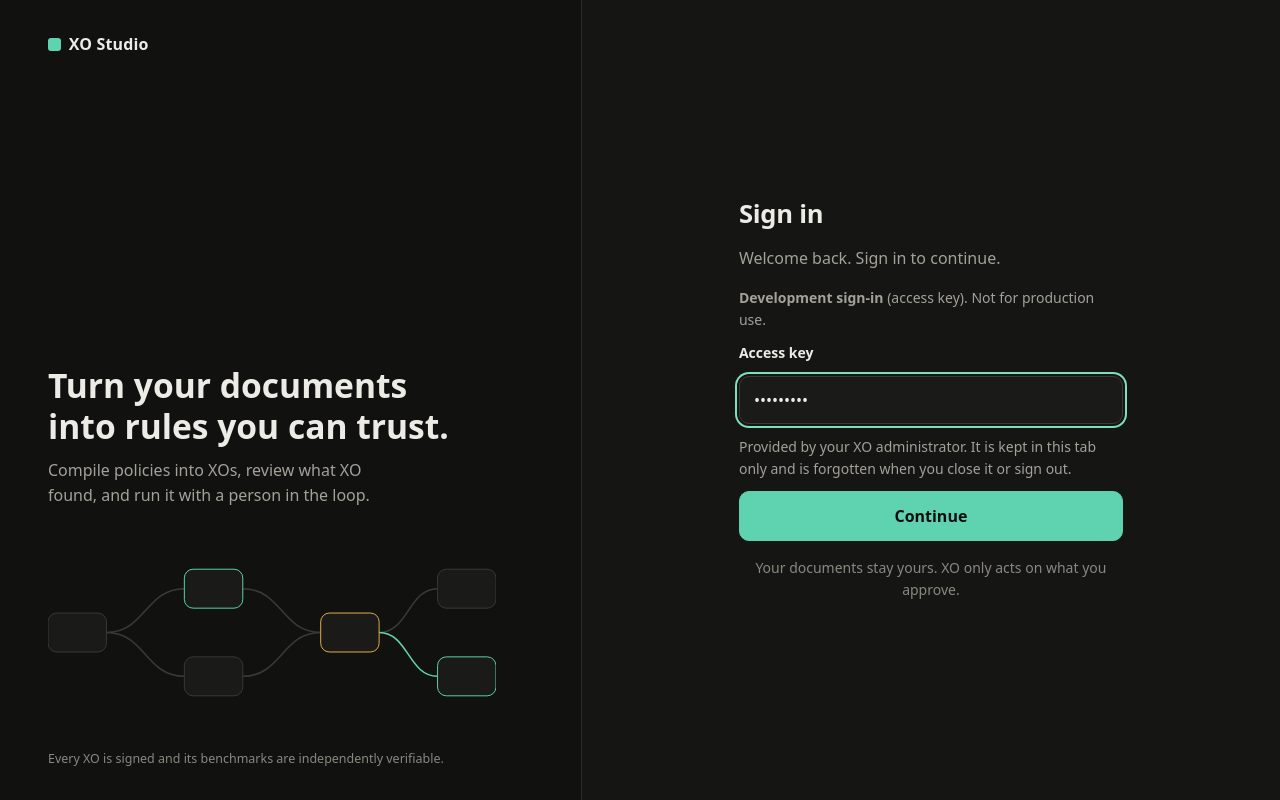
emergency stops › shows the instance stop read-only and the workspace stops with what they hold
Earlier steps of the test are not shown.
Click the button "Continue": {"x": 931, "y": 516} [739,491,1123,541]
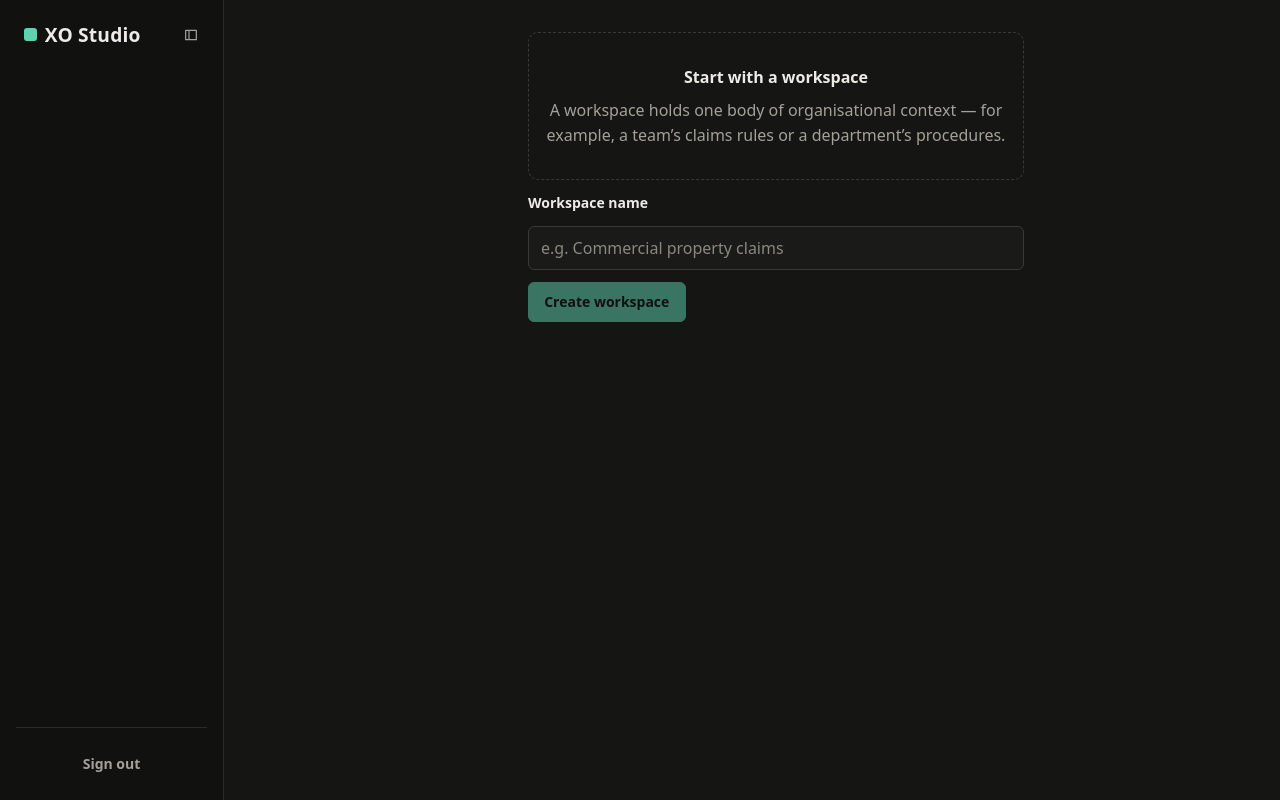
In the field labelled "Workspace name": {"x": 776, "y": 248} [528,226,1024,270], type "Ops"
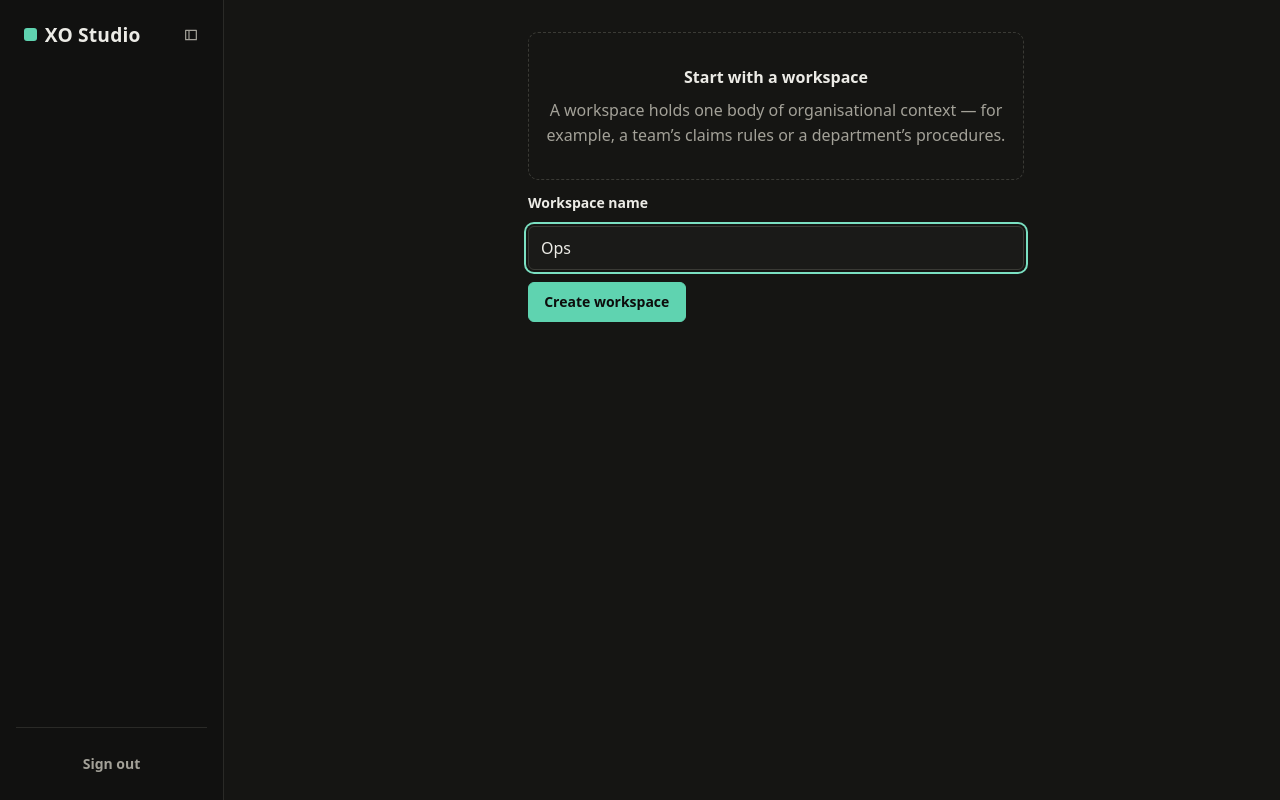
Click the button "Create workspace": {"x": 607, "y": 302} [528,282,686,322]
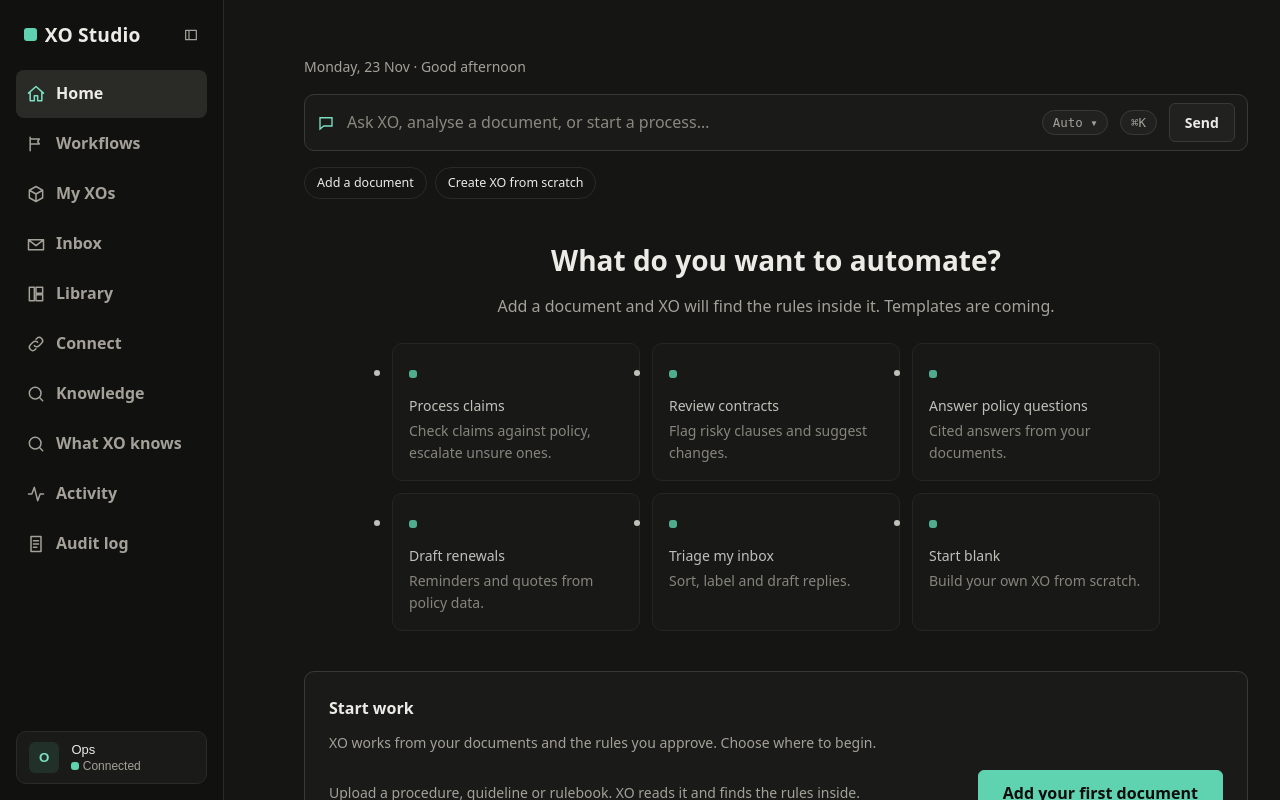
Click the button with aria-label "Workspace menu": {"x": 112, "y": 758} [16,731,207,784]
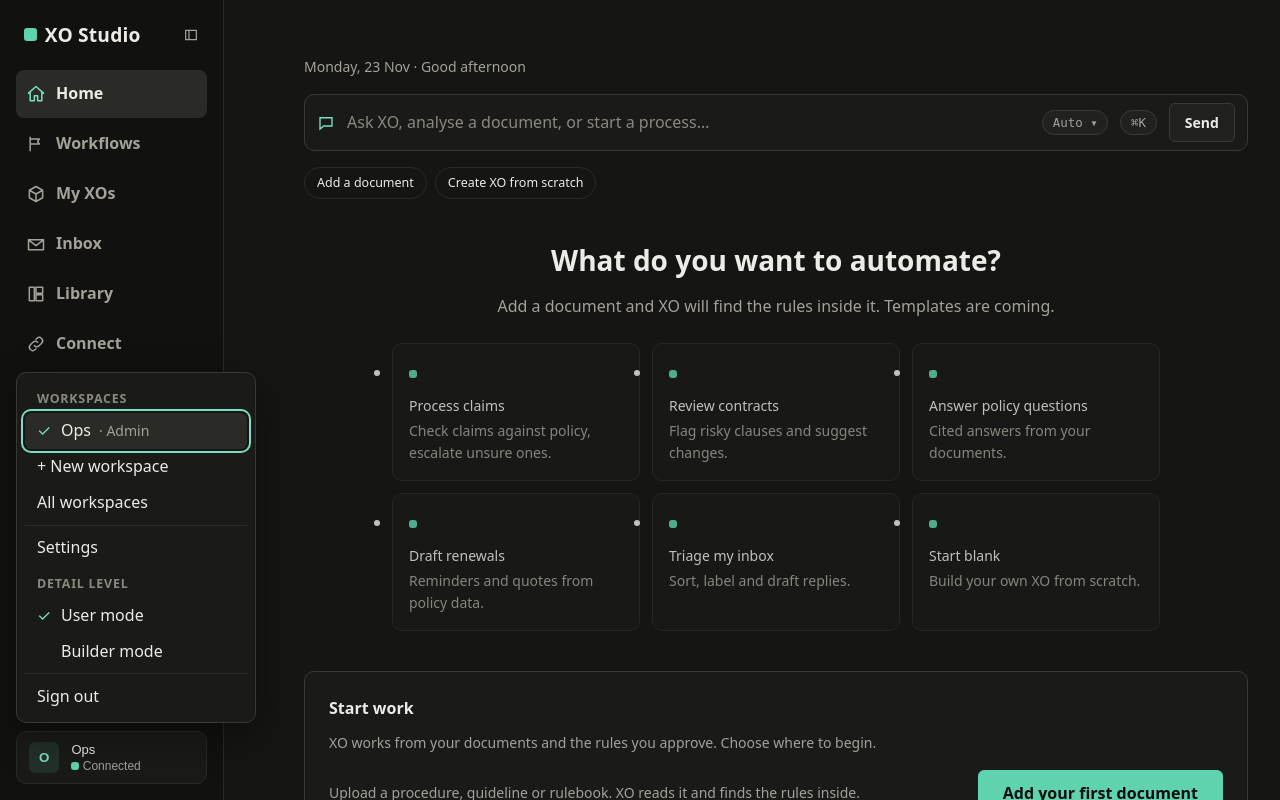
Click the menu item "Settings": {"x": 136, "y": 548} [25,530,247,566]
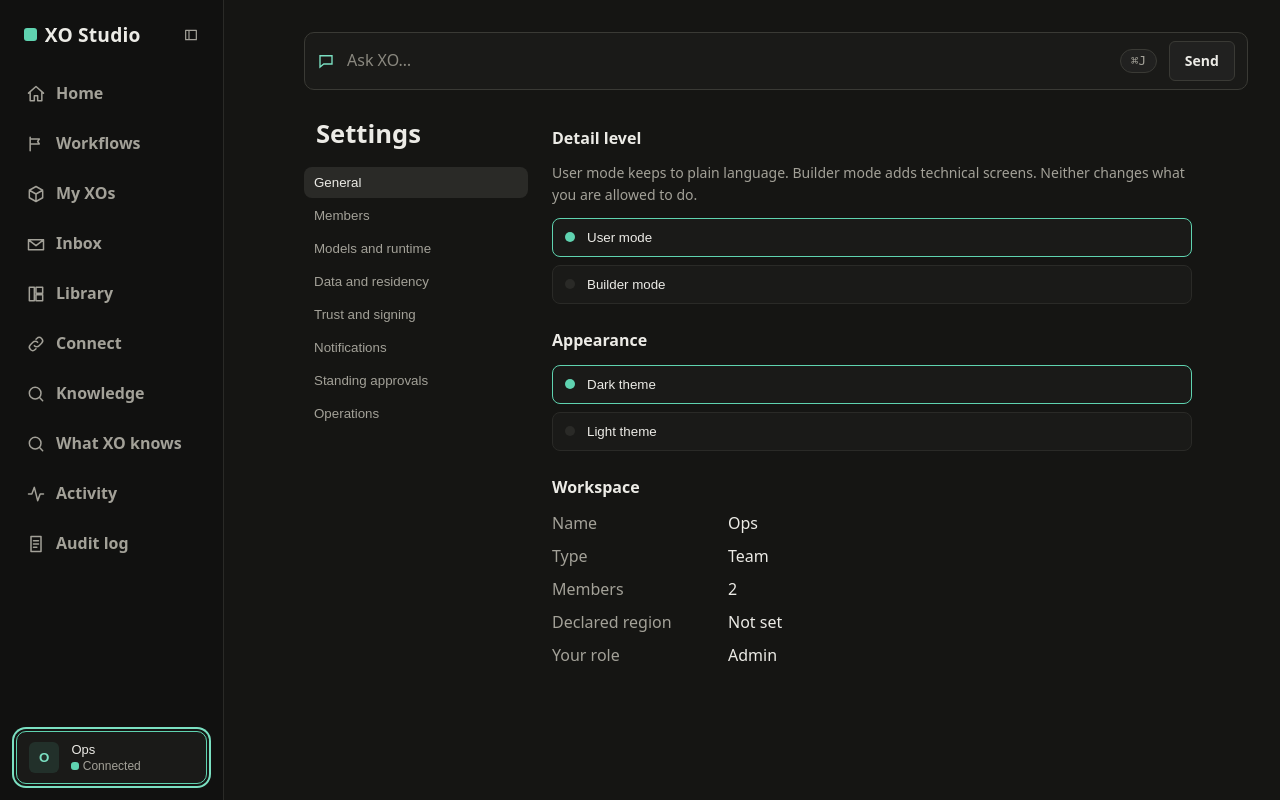
Click the tab "Operations": {"x": 416, "y": 414} [304,398,528,429]
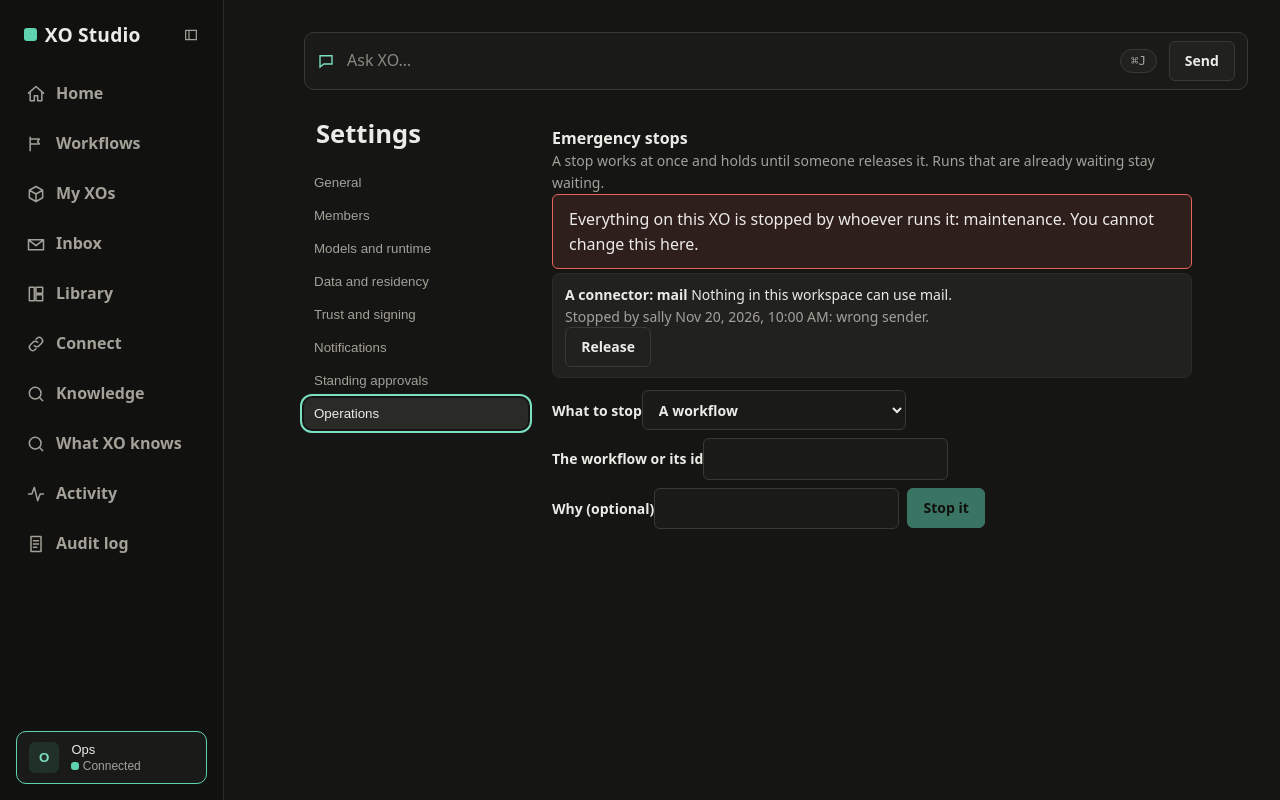
Check: the text "Everything on this XO is stopped by whoever runs it: maintenance. You cannot change this here." is shown, box [552,194,1192,270]
Check: the text "Nothing in this workspace can use mail." is shown, box [691,285,952,304]
Check: the text "Stopped by sally Nov 20, 2026, 10:00 AM: wrong sender." is shown, box [565,307,929,326]
